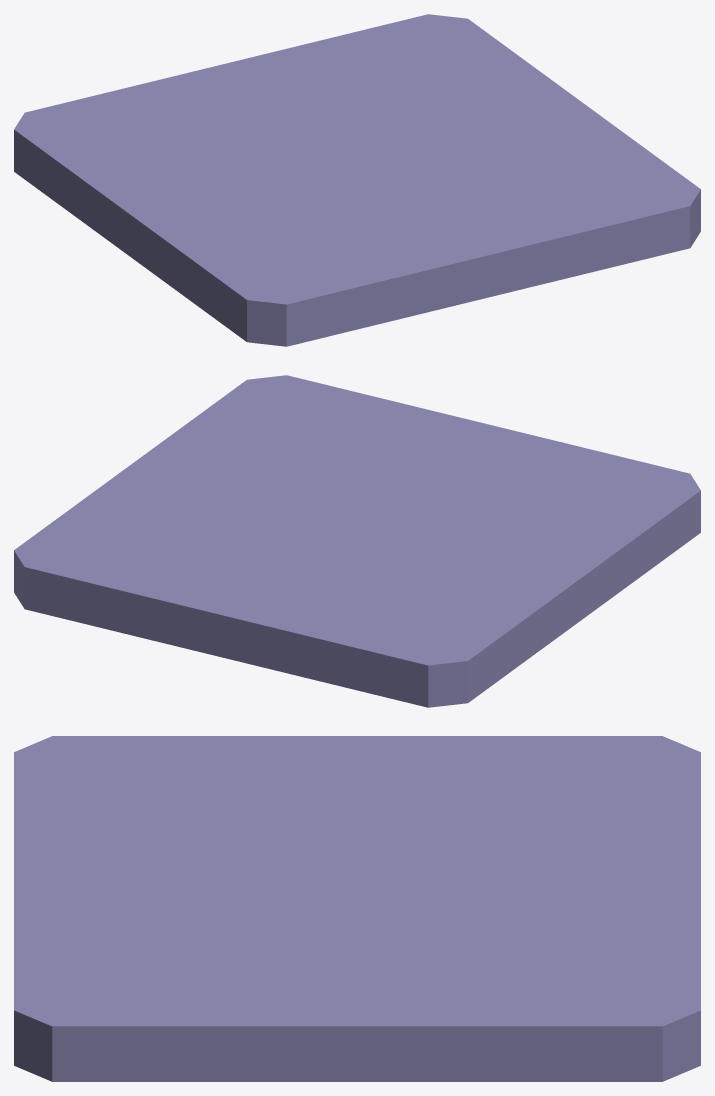
The model's file is roof_flat.fbx.
3 views of the same model, one above another, from view 1: azimuth 30°, elevation 25°; view 2: azimuth 150°, elevation 25°; view 3: azimuth 270°, elevation 25° (orthographic). The views are drawn at different scales.
Visible parts, largest first — view 1: roof_flat; view 2: roof_flat; view 3: roof_flat.
Part boxes in pixels (left/top/right/bottom): roof_flat: left=14, top=14, right=700, bottom=346; roof_flat: left=14, top=375, right=700, bottom=707; roof_flat: left=14, top=736, right=700, bottom=1081.
Size of the model in its own units: 11.25 by 1 by 11.25.
